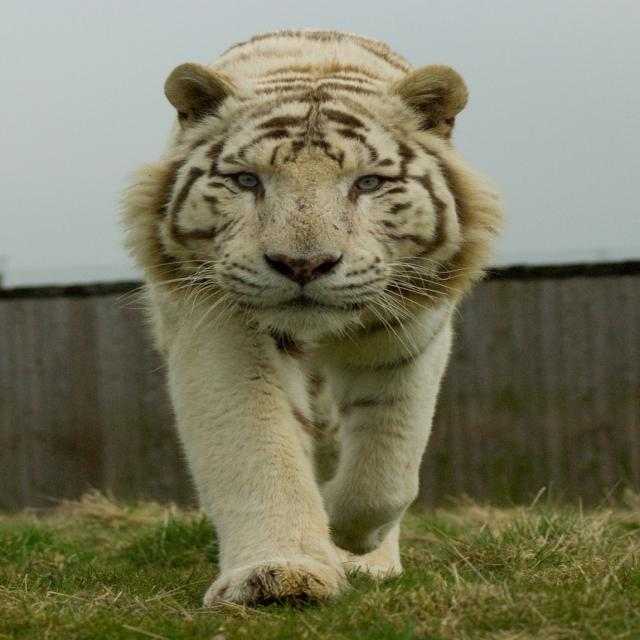Tiger: (112, 25, 502, 612)
